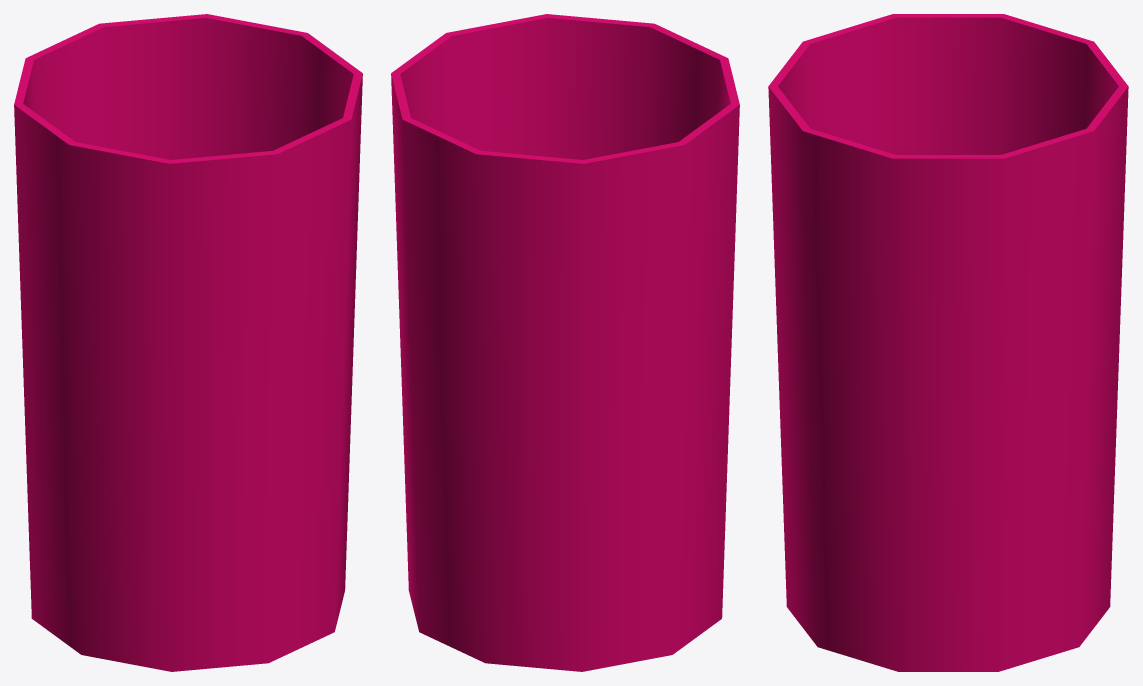
Rendered from Tumbler_01_Lod1.fbx.
3 views of the same model, side by side, from view 1: azimuth 30°, elevation 25°; view 2: azimuth 150°, elevation 25°; view 3: azimuth 270°, elevation 25° (orthographic).
Parts seen in each view (by area): view 1: Tumbler_01_Lod1; view 2: Tumbler_01_Lod1; view 3: Tumbler_01_Lod1.
Part boxes in pixels (left/top/right/bottom): Tumbler_01_Lod1: left=14, top=14, right=362, bottom=671; Tumbler_01_Lod1: left=391, top=14, right=739, bottom=671; Tumbler_01_Lod1: left=768, top=14, right=1128, bottom=671.
Size of the model in its own units: 7.56 by 12.68 by 7.95.
